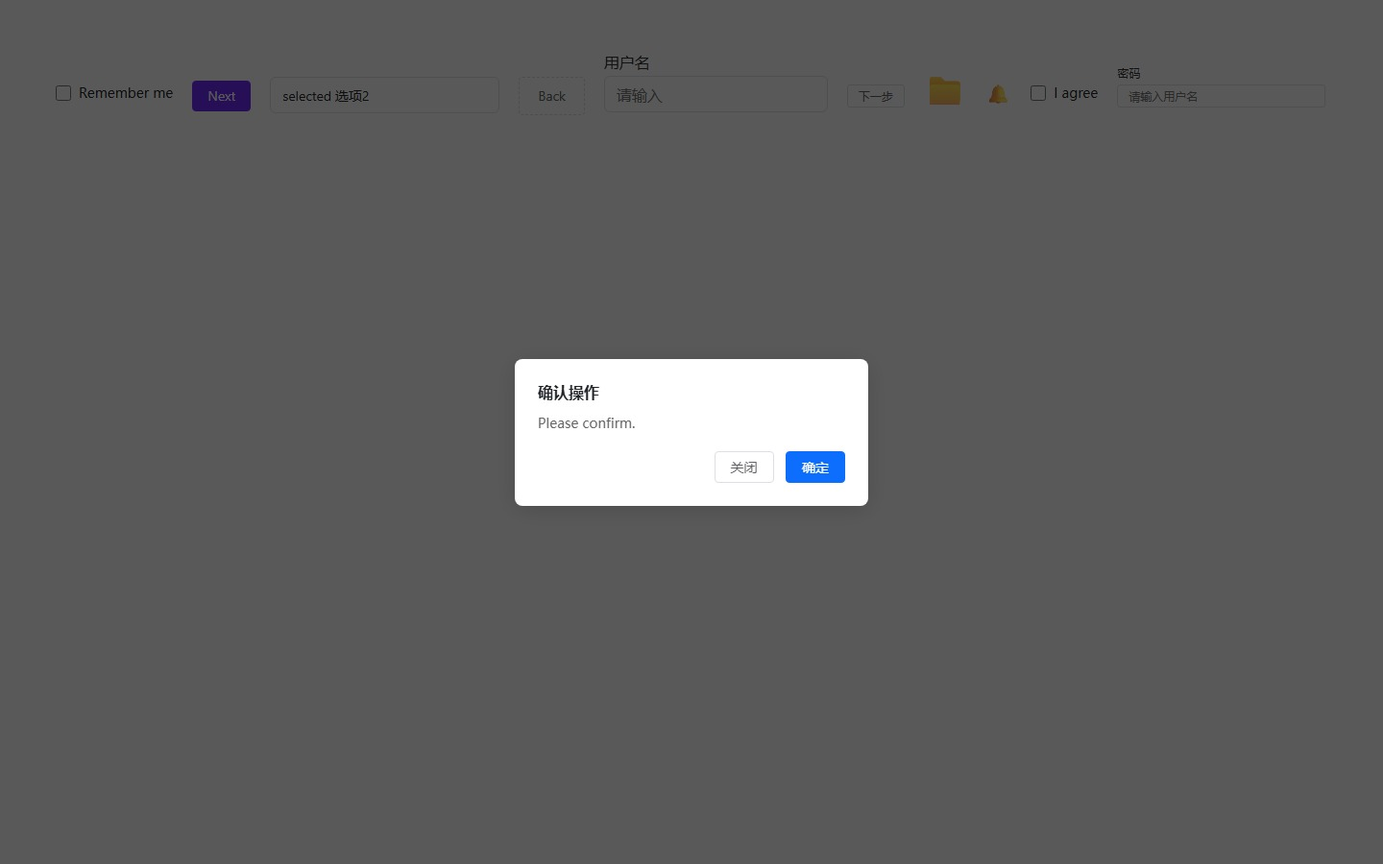button: (519, 76, 585, 115), (714, 451, 774, 482), (192, 80, 251, 111), (786, 451, 845, 482), (847, 84, 905, 107)
checkbox: (56, 85, 71, 100), (1031, 85, 1046, 100)
icon: (79, 84, 173, 102), (924, 72, 966, 103), (1054, 84, 1098, 102), (985, 83, 1012, 102)
input: (604, 76, 828, 112), (1117, 84, 1326, 107)
modal: (0, 0, 1383, 864)
radio: (56, 84, 173, 102), (1031, 84, 1098, 102)
select: (270, 77, 500, 113)
